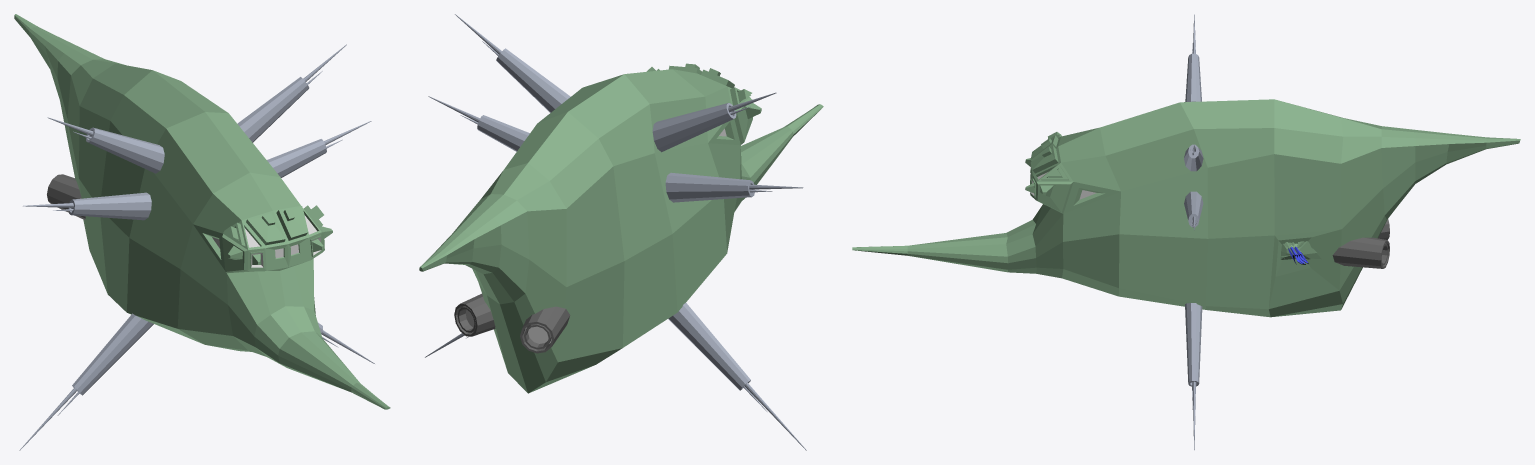
Rendered from Juggernaut2.fbx.
3 renders of one model, left to right at view 1: azimuth 30°, elevation 25°; view 2: azimuth 150°, elevation 25°; view 3: azimuth 270°, elevation 25°, orthographic. The views are drawn at different scales.
Visible parts, largest first — view 1: Body, Spires, Engines; view 2: Body, Spires, Engines; view 3: Body, Hole, Spires, Engines.
Boxes of the visible parts, x1=… form: Body: x1=14, y1=14, x2=390, y2=409; Spires: x1=19, y1=44, x2=374, y2=450; Engines: x1=47, y1=174, x2=85, y2=219; Body: x1=419, y1=63, x2=823, y2=393; Spires: x1=425, y1=14, x2=806, y2=450; Engines: x1=454, y1=293, x2=570, y2=353; Body: x1=852, y1=99, x2=1520, y2=317; Hole: x1=1269, y1=229, x2=1341, y2=308; Spires: x1=1184, y1=14, x2=1203, y2=450; Engines: x1=1332, y1=219, x2=1389, y2=268.
Bounding box in the file's own units: 332 × 291 × 602.
